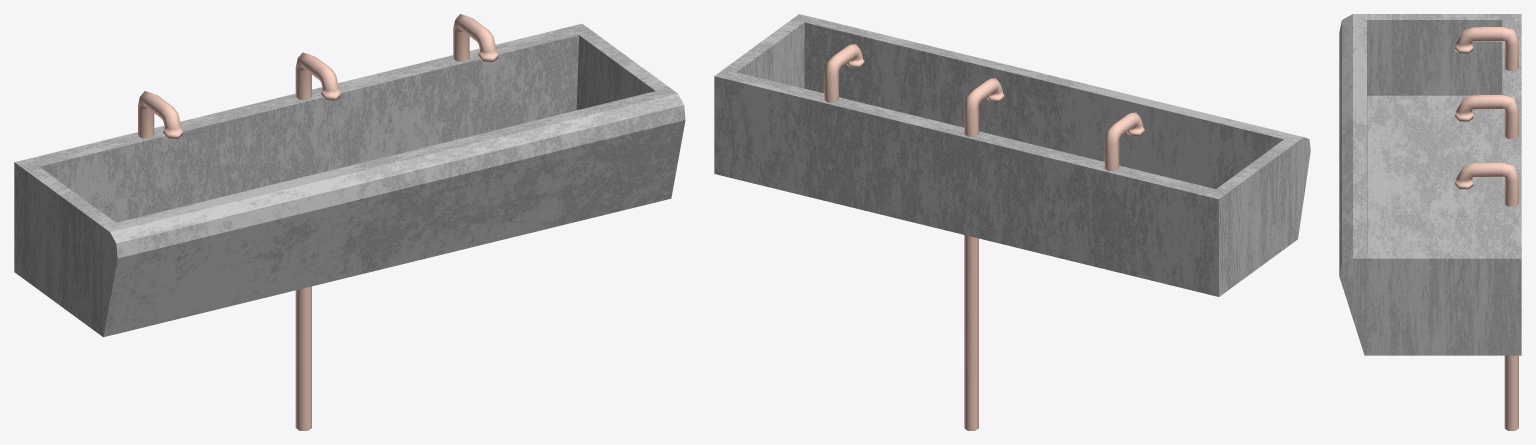
File: Sink.fbx
3 views of the same model, side by side, from view 1: azimuth 30°, elevation 25°; view 2: azimuth 150°, elevation 25°; view 3: azimuth 270°, elevation 25° (orthographic). The views are drawn at different scales.
Visible parts, largest first — view 1: Cube_Baked; view 2: Cube_Baked; view 3: Cube_Baked.
Part boxes in pixels (<box>): Cube_Baked: <box>14,14,685,430</box>; Cube_Baked: <box>714,14,1310,430</box>; Cube_Baked: <box>1339,14,1521,430</box>.
Size of the model in its own units: 200 by 127 by 62.95.
1 material, 1 textured.
